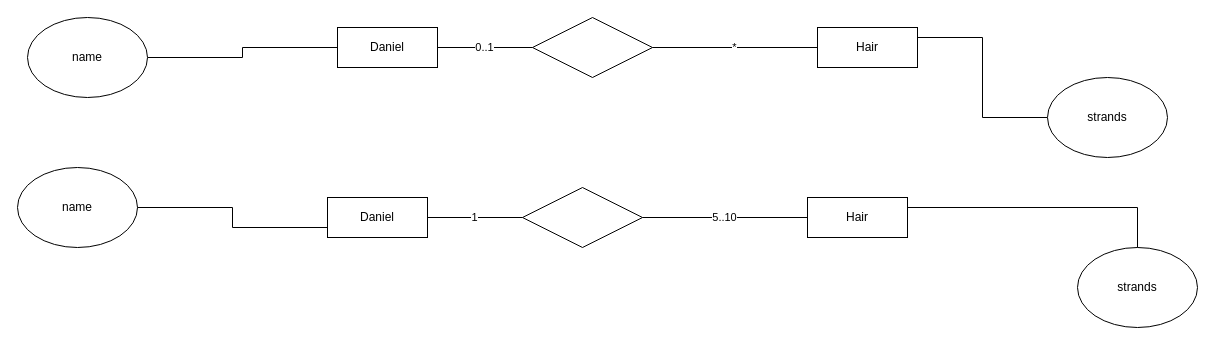
This 1215x345 diagram has some shape labels left out. Each missing label, with the centre of its shape:
"has" belongs at (x=592, y=47).
"is" belongs at (x=582, y=217).
